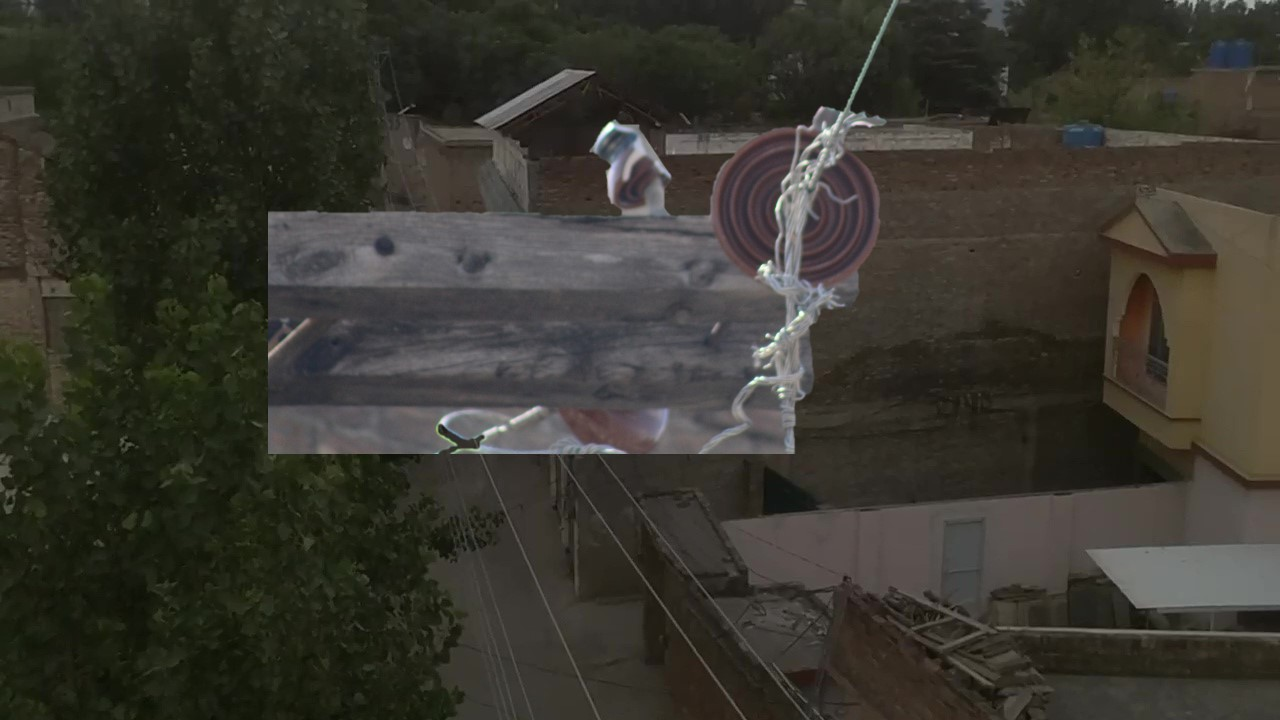defect_pin: (587, 108, 674, 205)
insulator_disc: (708, 116, 886, 299)
